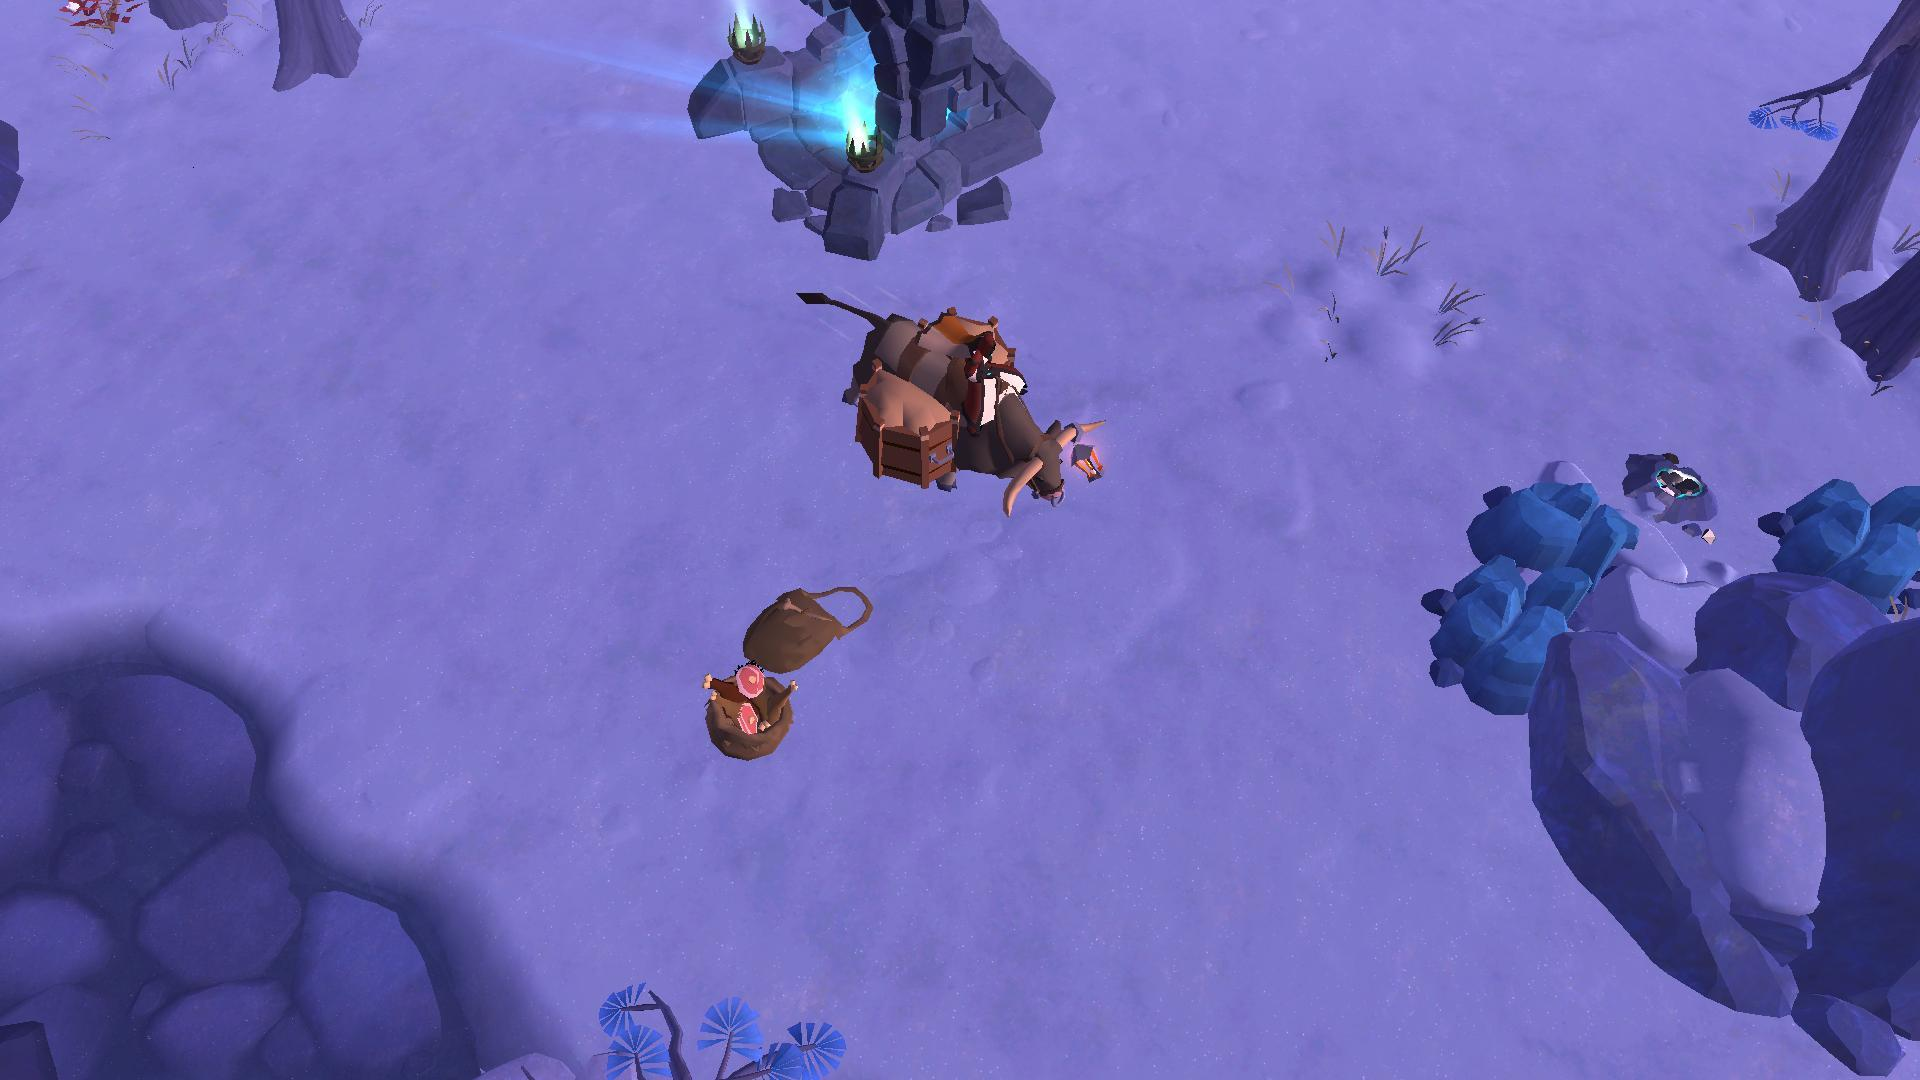rock_t4: (1415, 564, 1619, 708), (1759, 473, 1920, 616), (1457, 462, 1640, 580)
